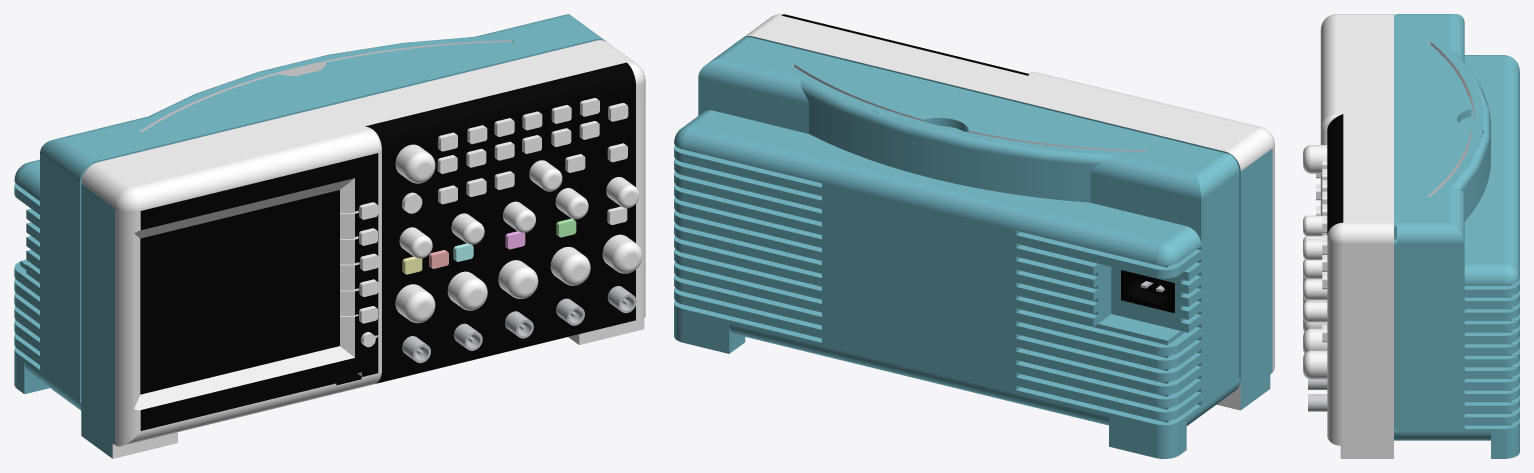
Rendered from Oscillo_Tektronix_TDS2000.glb.
3 views of the same model, side by side, from view 1: azimuth 30°, elevation 25°; view 2: azimuth 150°, elevation 25°; view 3: azimuth 270°, elevation 25° (orthographic). The views are drawn at different scales.
Visible parts, largest first — view 1: Oscillo_Tektronix_TDS2000; view 2: Oscillo_Tektronix_TDS2000; view 3: Oscillo_Tektronix_TDS2000.
Part boxes in pixels (x1=…): Oscillo_Tektronix_TDS2000: x1=14, y1=14, x2=645, y2=458; Oscillo_Tektronix_TDS2000: x1=674, y1=14, x2=1274, y2=458; Oscillo_Tektronix_TDS2000: x1=1303, y1=14, x2=1519, y2=458.
Size of the model in its own units: 0.326 by 0.158 by 0.1352.
